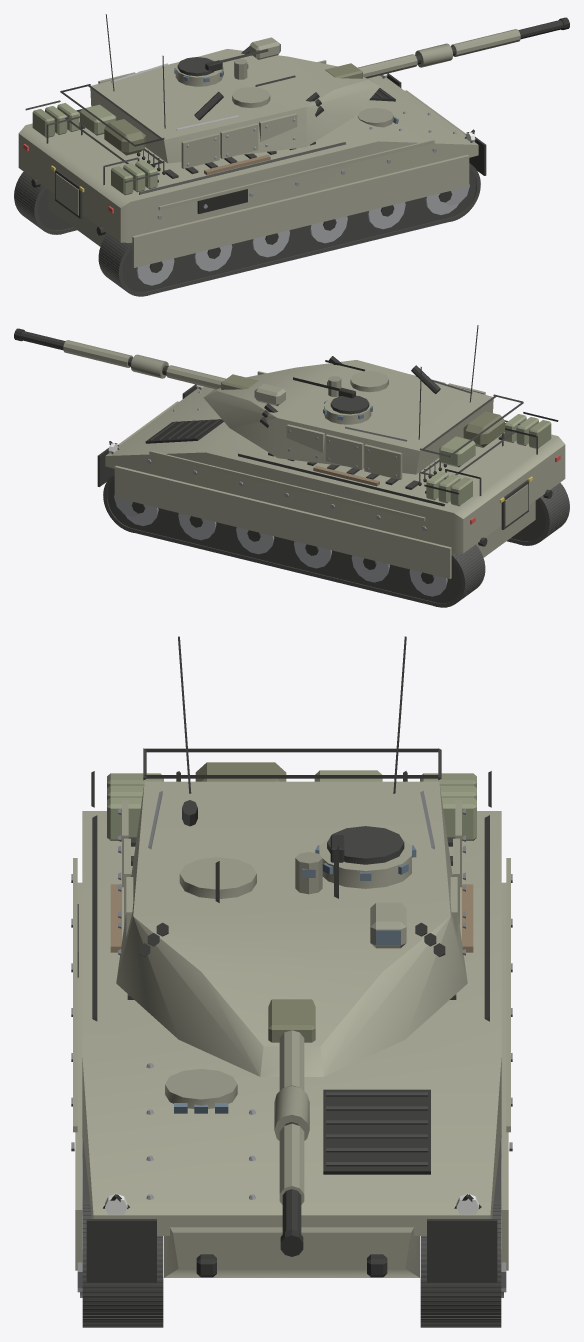
The model's file is tank.glb.
3 renders of one model, top to bottom at view 1: azimuth 30°, elevation 25°; view 2: azimuth 150°, elevation 25°; view 3: azimuth 270°, elevation 25°, orthographic. The views are drawn at different scales.
Visible parts, largest first — view 1: hull, turret, trackL0, trackL1, trackL5, trackL4, trackL3, trackL2, trackL6, trackL7; view 2: hull, turret, trackR0, trackR5, trackR1, trackR3, trackR2, trackR4, trackR7, trackR6; view 3: hull, turret, trackL5, trackR5, trackL6, trackR6, trackL7, trackR7, trackL0, trackR0, trackL2, trackR2.
Boxes of the visible parts, left/top/right/bottom form: hull: left=18, top=60, right=486, bottom=292; turret: left=60, top=14, right=569, bottom=174; trackL0: left=98, top=163, right=480, bottom=296; trackL1: left=99, top=163, right=480, bottom=296; trackL5: left=98, top=165, right=480, bottom=296; trackL4: left=98, top=165, right=480, bottom=296; trackL3: left=98, top=169, right=479, bottom=296; trackL2: left=98, top=164, right=478, bottom=296; trackL6: left=98, top=167, right=480, bottom=294; trackL7: left=98, top=168, right=480, bottom=296; hull: left=97, top=371, right=565, bottom=603; turret: left=14, top=325, right=523, bottom=485; trackR0: left=103, top=474, right=485, bottom=607; trackR5: left=103, top=476, right=485, bottom=607; trackR1: left=103, top=488, right=484, bottom=607; trackR3: left=103, top=474, right=485, bottom=607; trackR2: left=104, top=475, right=485, bottom=607; trackR4: left=103, top=475, right=485, bottom=607; trackR7: left=104, top=479, right=485, bottom=607; trackR6: left=104, top=479, right=485, bottom=603; hull: left=71, top=771, right=512, bottom=1297; turret: left=116, top=636, right=467, bottom=1256; trackL5: left=82, top=1155, right=163, bottom=1324; trackR5: left=420, top=1155, right=501, bottom=1324; trackL6: left=82, top=1141, right=163, bottom=1325; trackR6: left=420, top=1141, right=501, bottom=1325; trackL7: left=82, top=1159, right=163, bottom=1326; trackR7: left=420, top=1162, right=501, bottom=1326; trackL0: left=82, top=1145, right=163, bottom=1327; trackR0: left=420, top=1145, right=501, bottom=1327; trackL2: left=82, top=1154, right=163, bottom=1326; trackR2: left=420, top=1154, right=501, bottom=1326.
Size of the model in its own units: 10.2 by 4.14 by 3.89.
